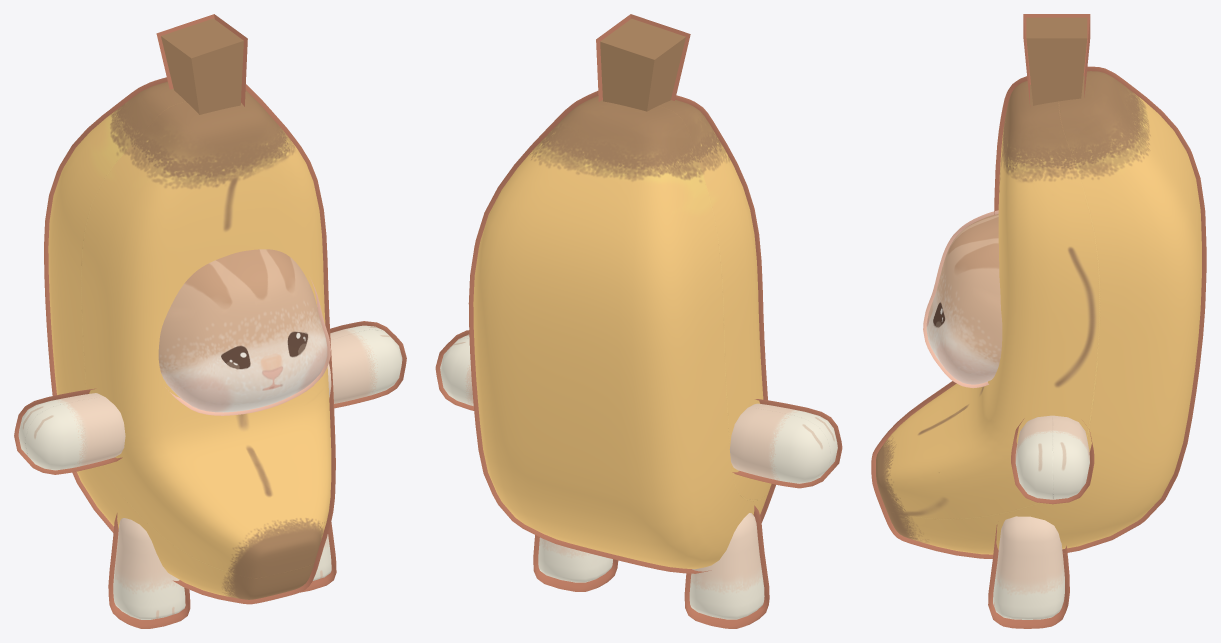
Rendered from player.glb.
3 renders of one model, left to right at view 1: azimuth 30°, elevation 25°; view 2: azimuth 150°, elevation 25°; view 3: azimuth 270°, elevation 25°, orthographic. The views are drawn at different scales.
Visible parts, largest first — view 1: body; view 2: body; view 3: body.
Boxes of the visible parts, x1=… form: body: x1=14, y1=14, x2=406, y2=628; body: x1=435, y1=14, x2=842, y2=628; body: x1=871, y1=14, x2=1206, y2=628.
Bounding box in the file's own units: 1.54 × 2.16 × 1.18.
7 materials, 4 textured.
